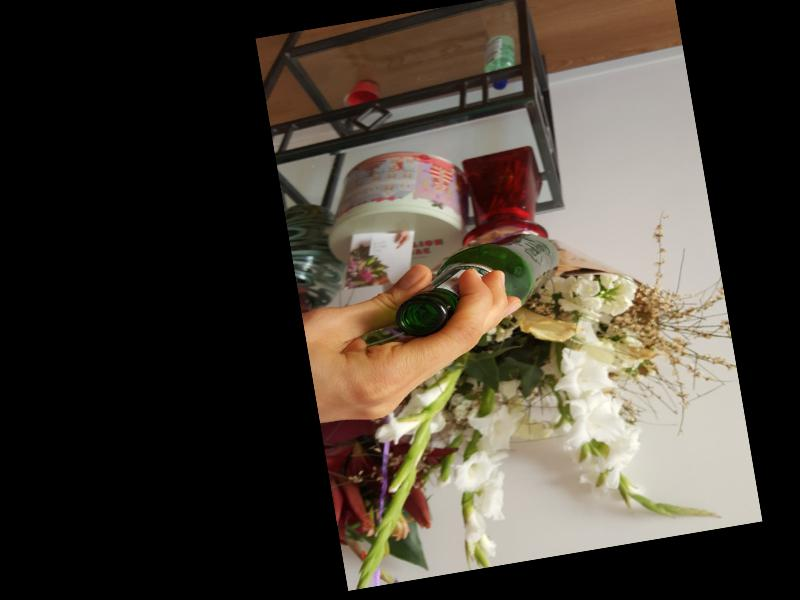Beer: (385, 227, 568, 339)
